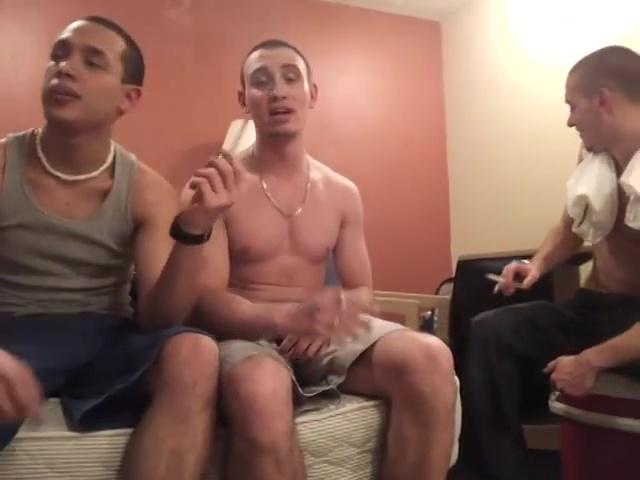cigarette: (230, 111, 254, 156), (484, 270, 527, 291)
